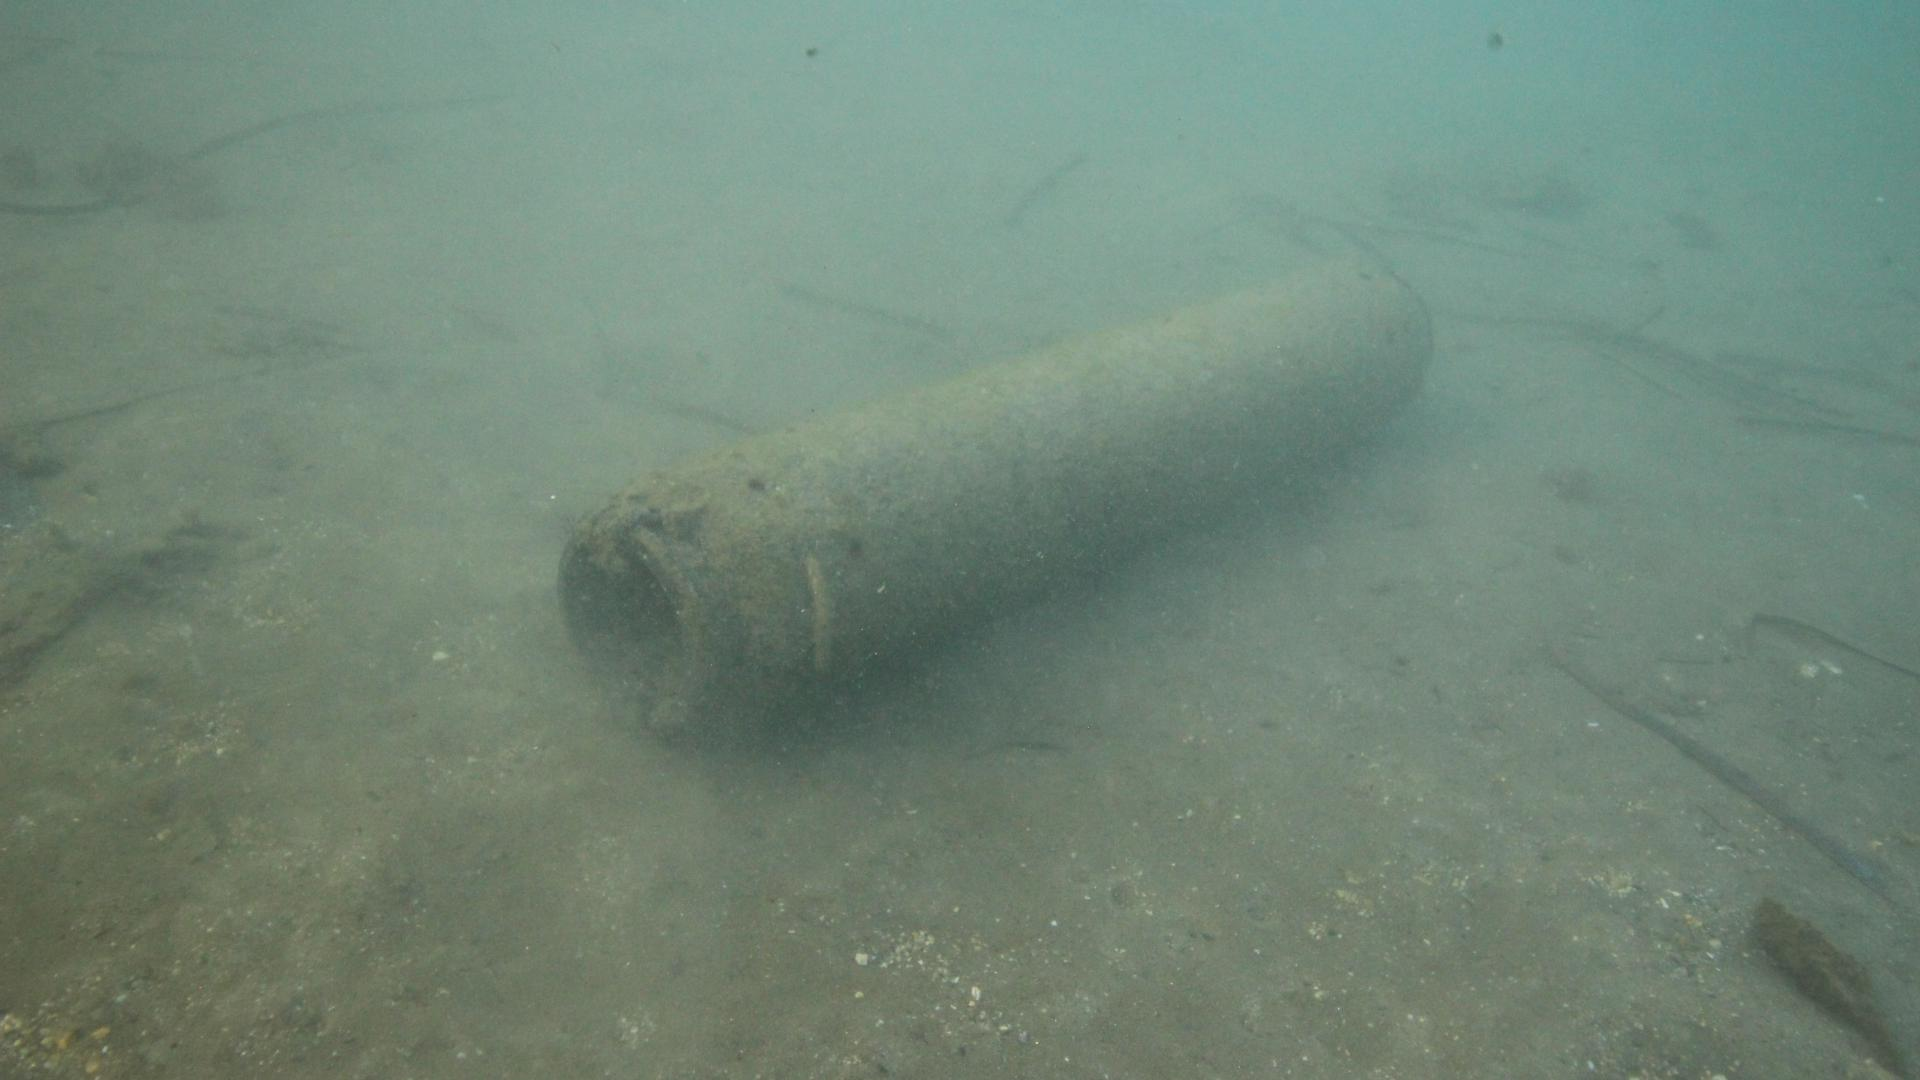eel fish trap: (559, 260, 1435, 740)
